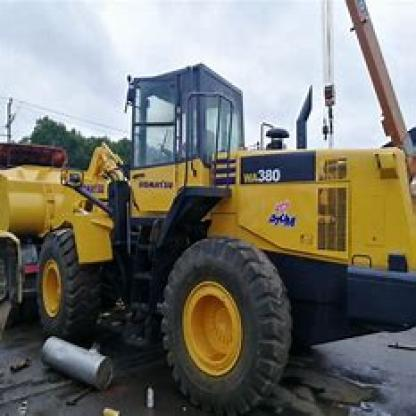bull_dozer/loader/grader: (0, 59, 414, 414)
